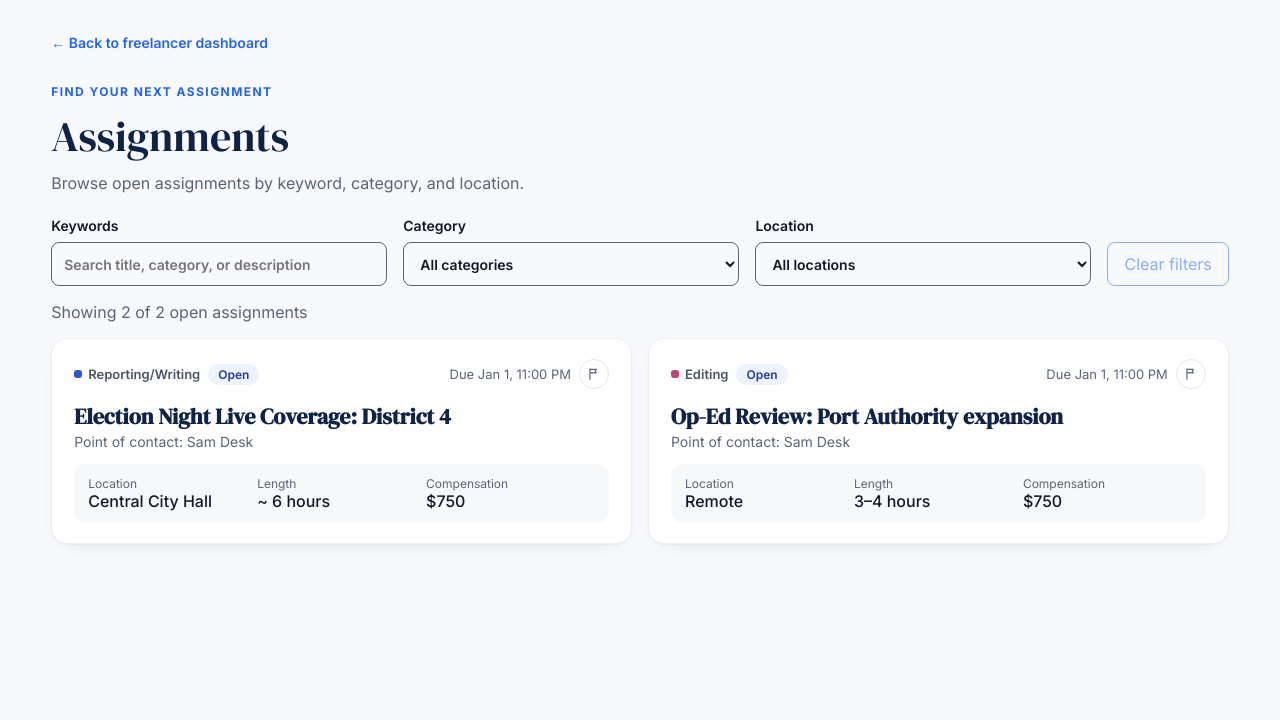
Test case: AssignmentsBrowser › combines filters, announces no matches, and clears all controls
Select "Editing" in the dropdown labelled "Category": (571, 264) [403,242,739,286]
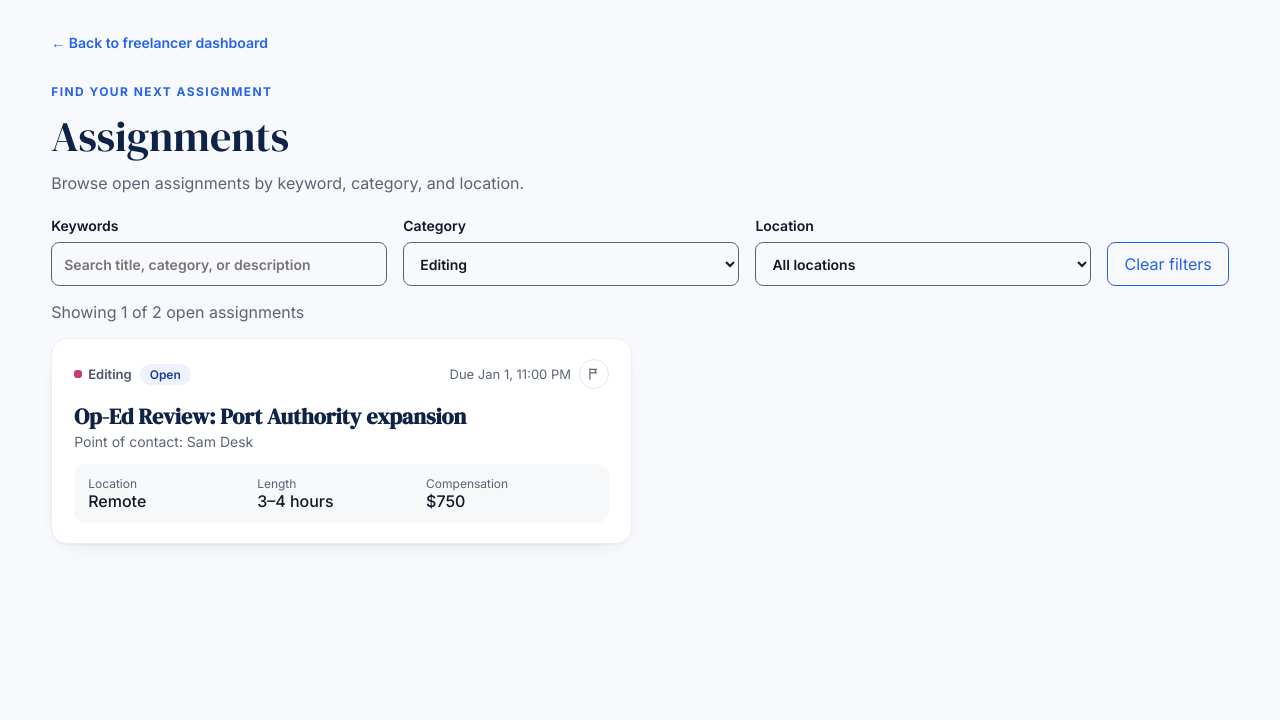
Select "Remote" in the dropdown labelled "Location": (923, 264) [755,242,1092,286]
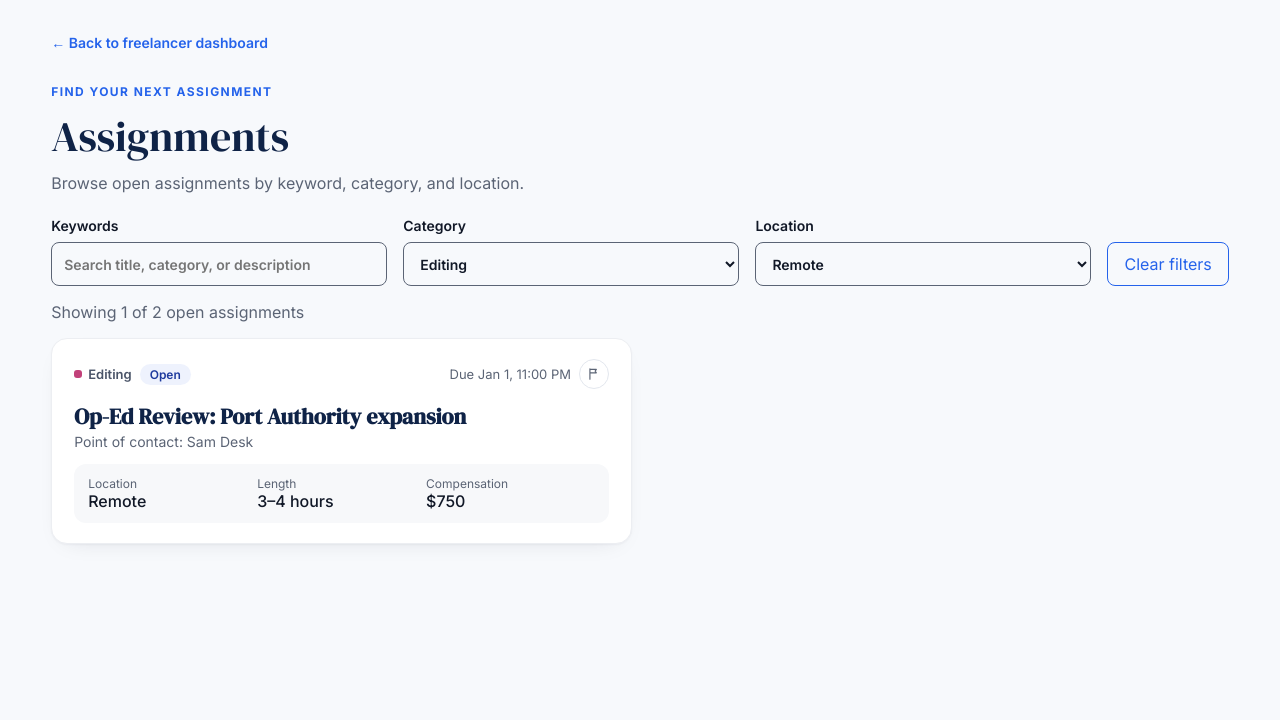
Expected: the heading "Op-Ed Review: Port Authority expansion" is shown, [74,401,466,431]
In the search field labelled "Keywords": (219, 264) [51,242,387,286], type "Election"
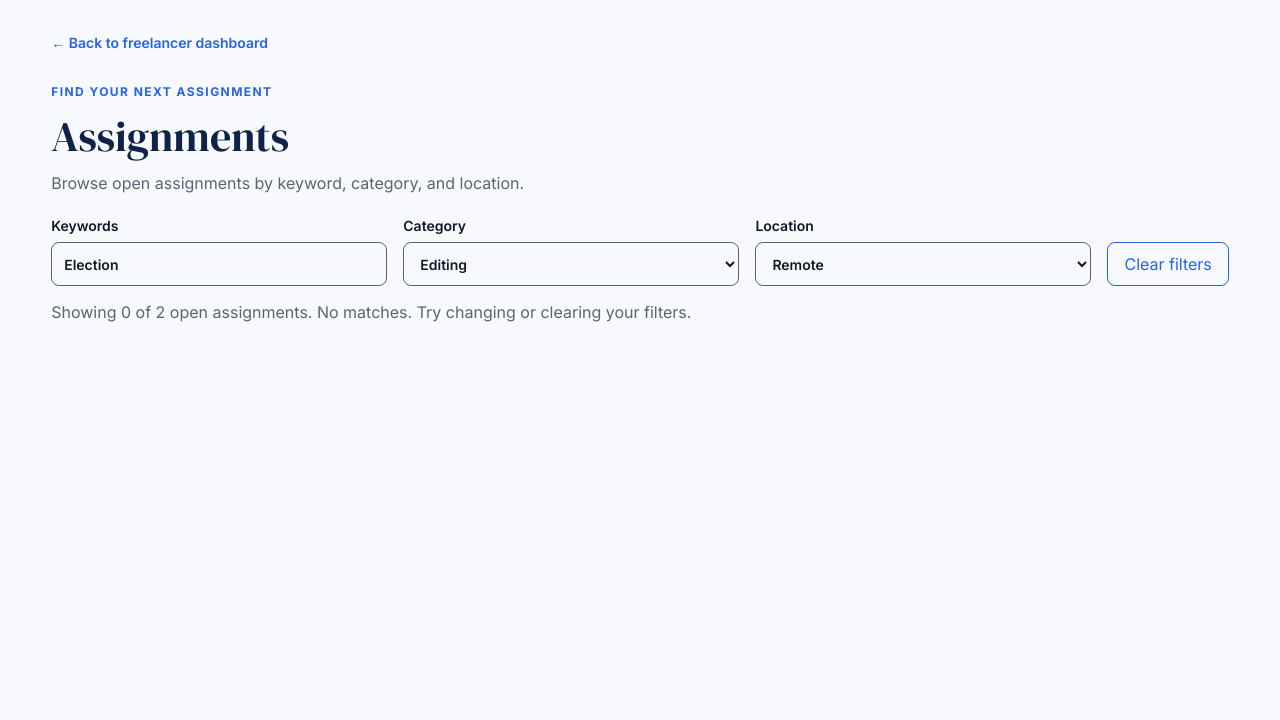
Expected: the message shows "No matches", [308,302,691,322]
Click the button "Clear filters": (1168, 264) [1108,242,1229,286]
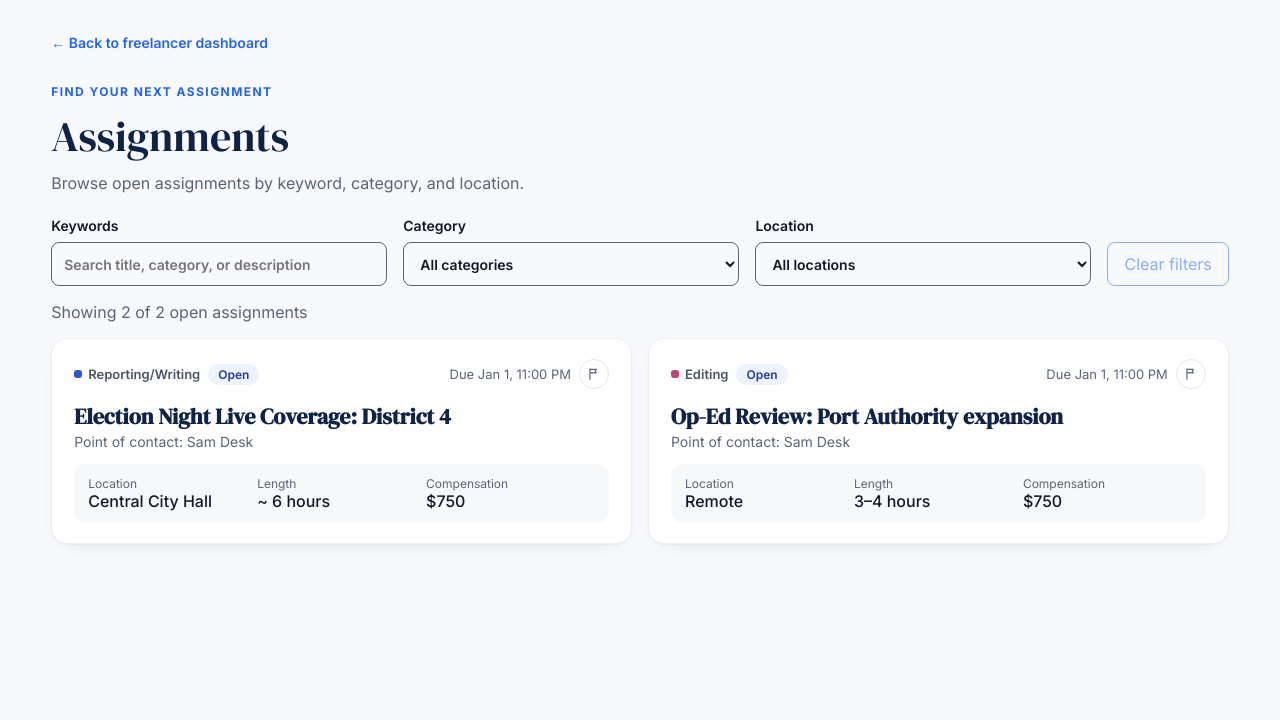
Expected: the search field labelled "Keywords" is empty, [51,242,387,286]
Expected: the button "Clear filters" is disabled, [1108,242,1229,286]
